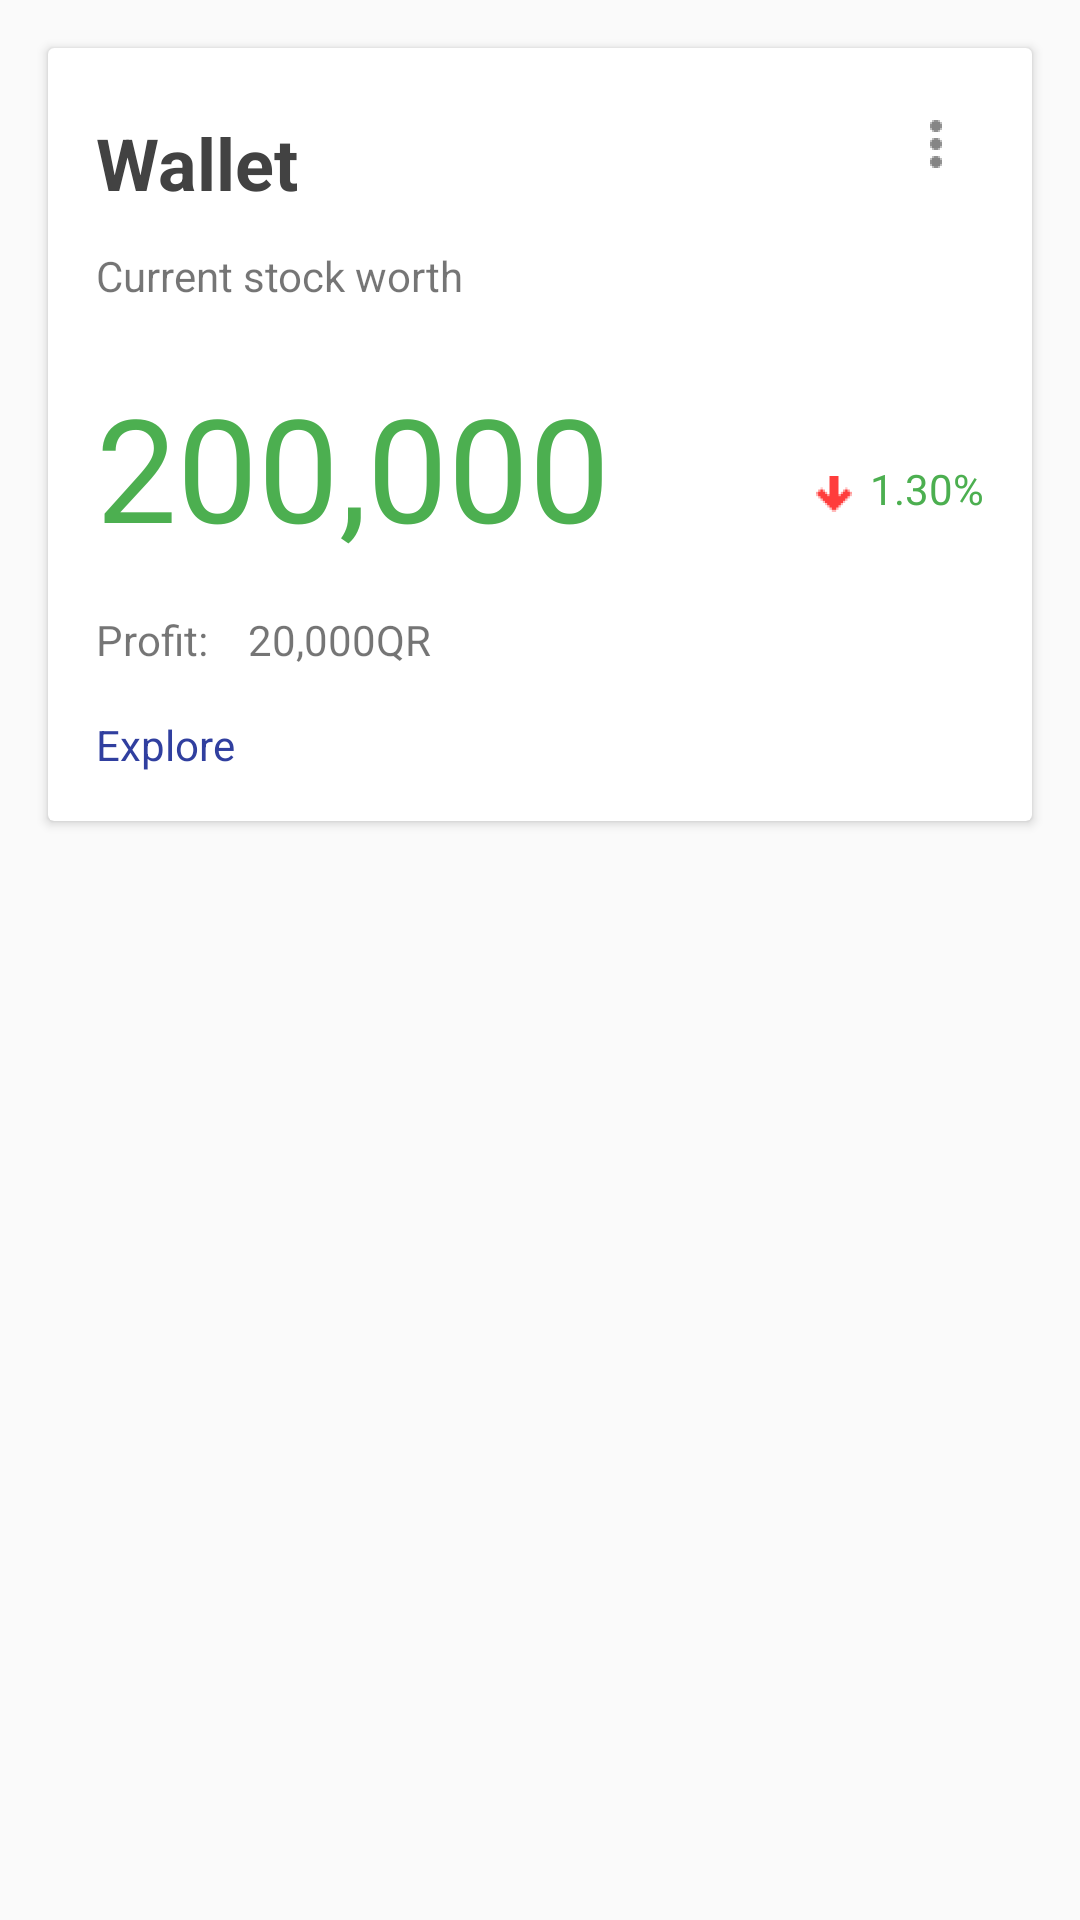

Icon bounding boxes for this 1080px×1920px phone screenshot, format (x1, y1, x2, y2):
arrow: (816, 476, 852, 512)
card menu: (930, 120, 942, 168)
